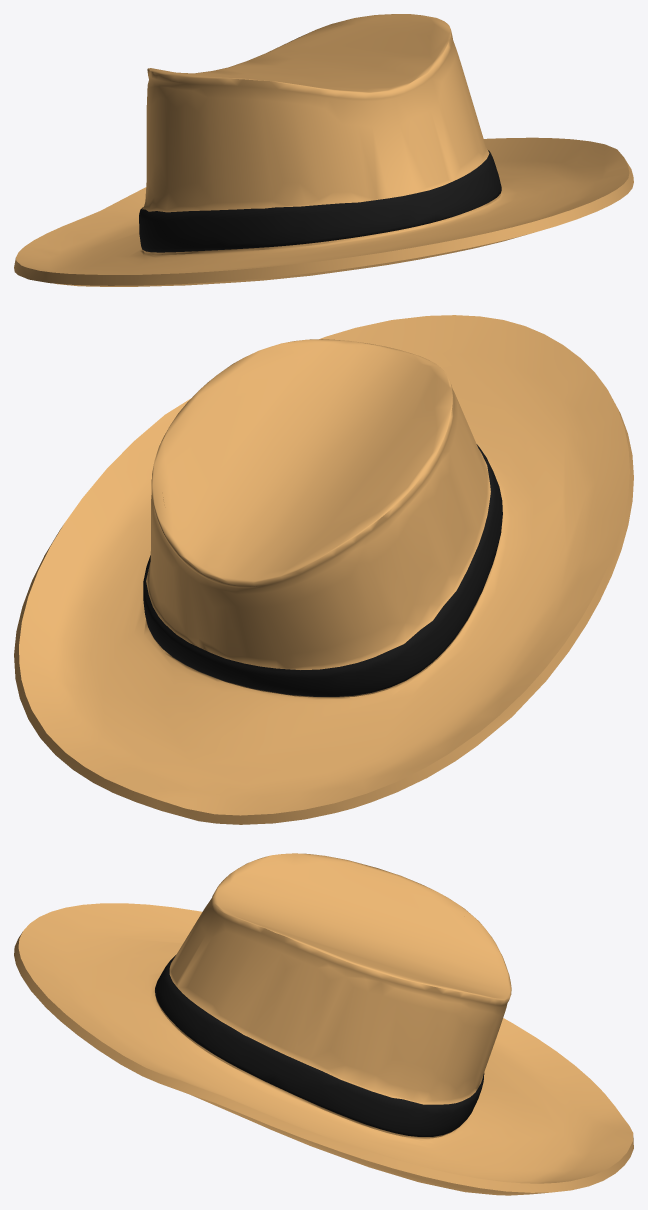
Rendered from headwear-hat-yellow-53919561.glb.
3 renders of one model, top to bottom at view 1: azimuth 30°, elevation 25°; view 2: azimuth 150°, elevation 25°; view 3: azimuth 270°, elevation 25°, orthographic. The views are drawn at different scales.
Visible parts, largest first — view 1: Geo_Black_Older_Female_Hat_Yellow.001; view 2: Geo_Black_Older_Female_Hat_Yellow.001; view 3: Geo_Black_Older_Female_Hat_Yellow.001.
Part boxes in pixels (<box>): Geo_Black_Older_Female_Hat_Yellow.001: <box>14,14,633,286</box>; Geo_Black_Older_Female_Hat_Yellow.001: <box>14,315,633,824</box>; Geo_Black_Older_Female_Hat_Yellow.001: <box>14,853,633,1195</box>.
Size of the model in its own units: 2.68 by 1.52 by 3.34.
